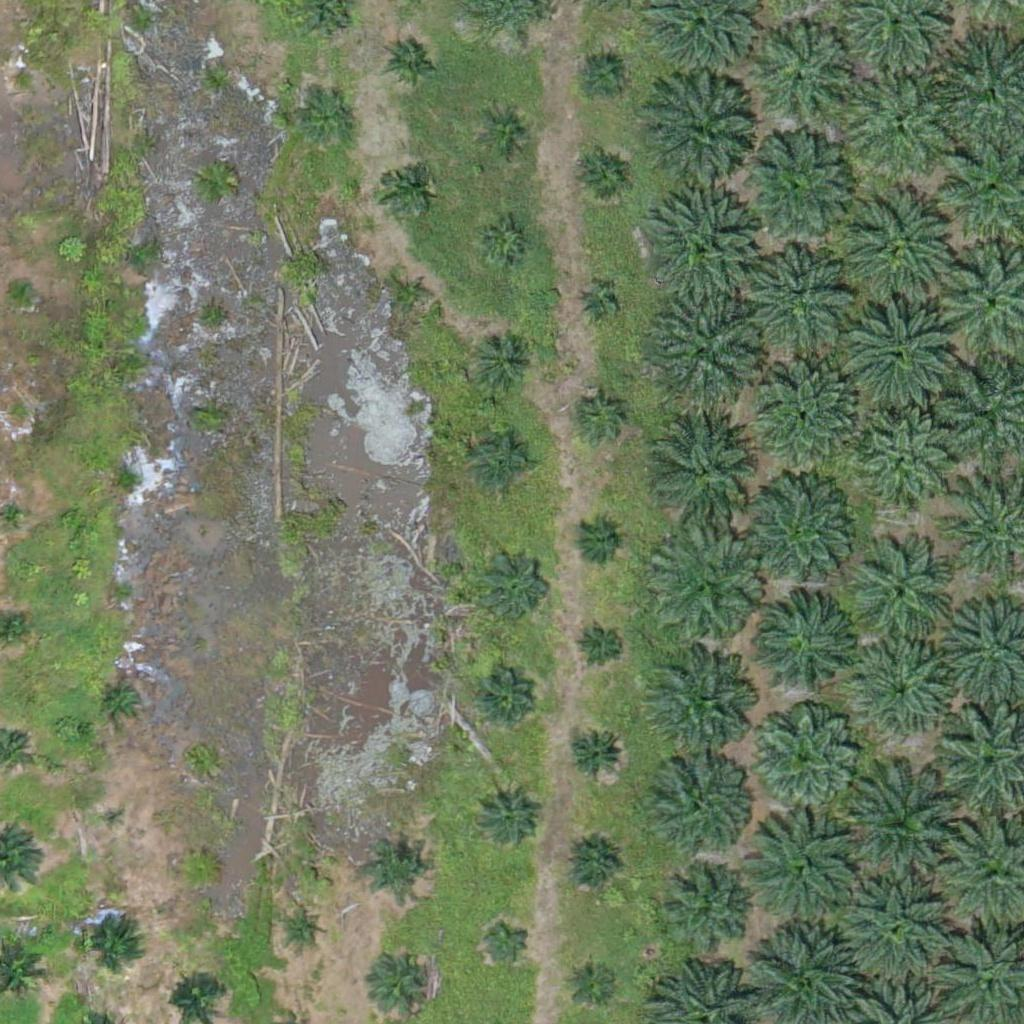Kelapa_Sawit: (844, 763, 969, 889), (839, 871, 952, 985), (749, 816, 862, 930), (747, 701, 860, 815), (651, 533, 764, 647), (648, 192, 761, 305), (649, 294, 762, 407), (649, 409, 762, 522), (845, 64, 958, 177), (741, 478, 854, 591), (644, 652, 756, 766), (646, 81, 758, 194), (743, 130, 855, 243), (750, 15, 862, 128), (848, 188, 960, 301), (844, 295, 956, 408), (759, 361, 859, 462), (755, 247, 855, 348), (856, 415, 956, 516), (853, 547, 953, 648), (650, 750, 750, 851), (854, 640, 954, 740), (758, 594, 858, 694), (660, 867, 748, 955), (478, 546, 553, 621), (376, 950, 439, 1013), (365, 834, 428, 897), (80, 906, 143, 969), (474, 673, 537, 736), (564, 723, 627, 786), (474, 333, 536, 396), (473, 430, 535, 493), (475, 784, 537, 847), (561, 835, 623, 898), (383, 31, 445, 94), (576, 390, 626, 441), (567, 952, 617, 1003), (482, 914, 532, 965), (572, 514, 622, 565), (302, 98, 352, 148), (378, 162, 428, 212), (480, 218, 530, 268), (481, 109, 531, 159), (576, 622, 626, 672), (578, 50, 628, 100), (579, 153, 629, 203), (98, 676, 148, 726), (285, 910, 323, 948), (395, 276, 433, 314), (578, 285, 616, 323), (182, 850, 220, 888), (10, 275, 35, 300), (7, 66, 32, 91), (102, 804, 127, 829)
